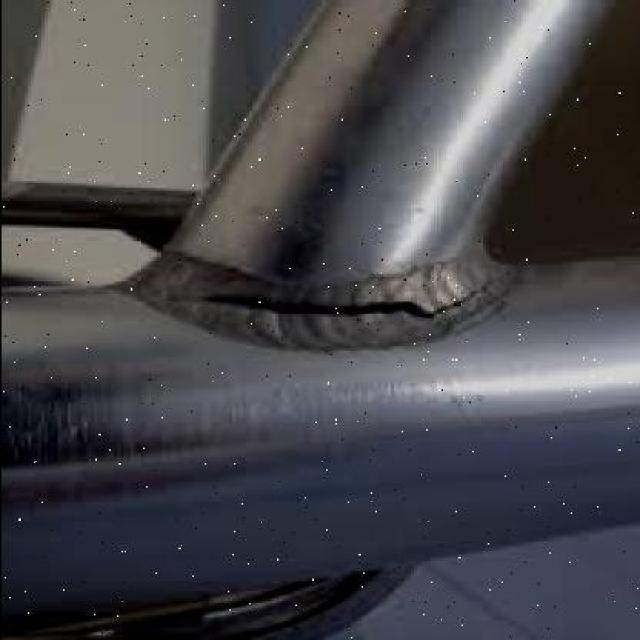Defect: (178, 284, 498, 330)
